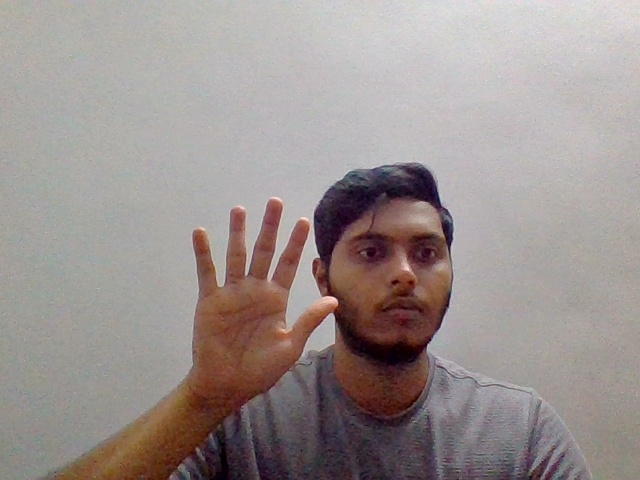Hello: (182, 190, 343, 408)
